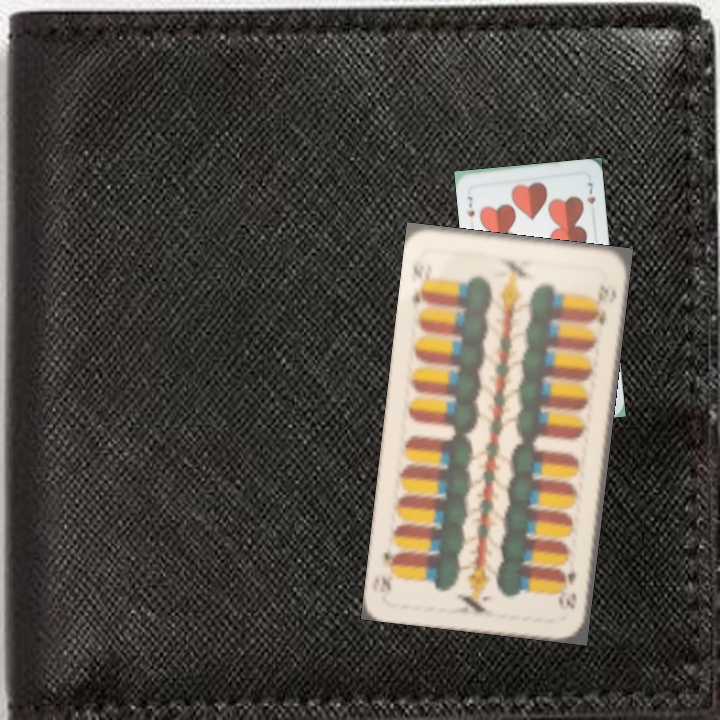E10: (407, 253, 431, 309), (556, 558, 579, 612)
H7: (463, 192, 477, 219)
